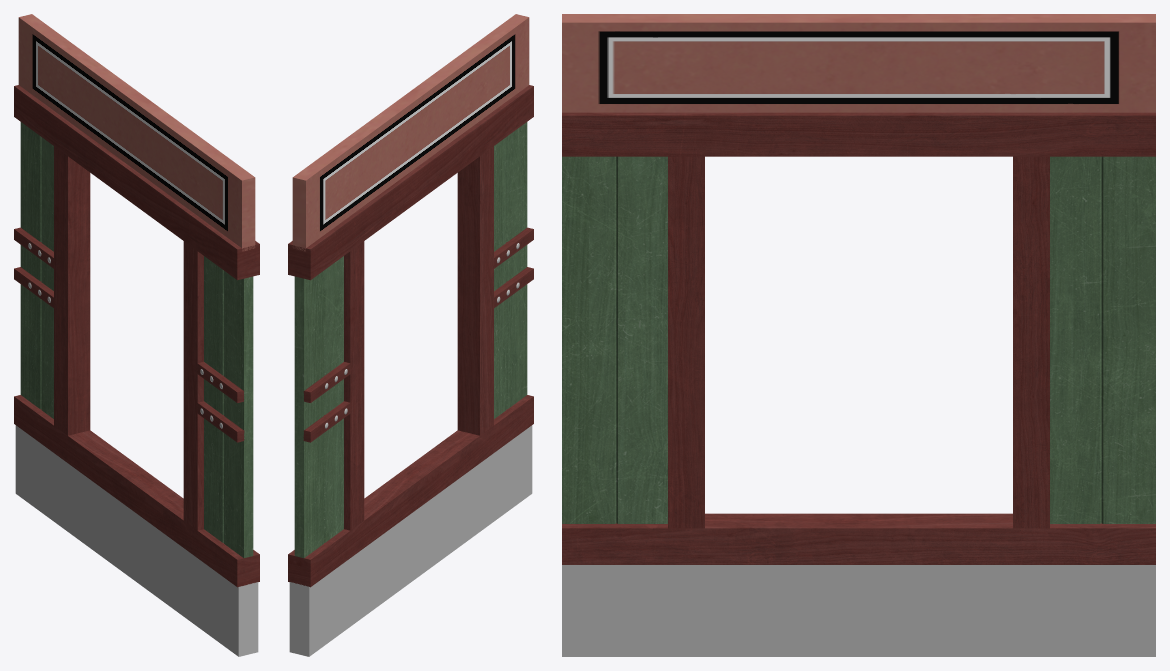
Rendered from SM_Wall02I.fbx.
The picture shows the model from 3 angles, left to right: view 1: azimuth 30°, elevation 25°; view 2: azimuth 150°, elevation 25°; view 3: azimuth 270°, elevation 25°; orthographic projection. The views are drawn at different scales.
Visible parts, largest first — view 1: SM_Wall02I; view 2: SM_Wall02I; view 3: SM_Wall02I.
Part boxes in pixels (box(x1,y1,x2,y2)): SM_Wall02I: box(14, 14, 259, 656); SM_Wall02I: box(288, 14, 533, 656); SM_Wall02I: box(562, 14, 1155, 656).
Bounding box in the file's own units: 14.81 × 245 × 288.
